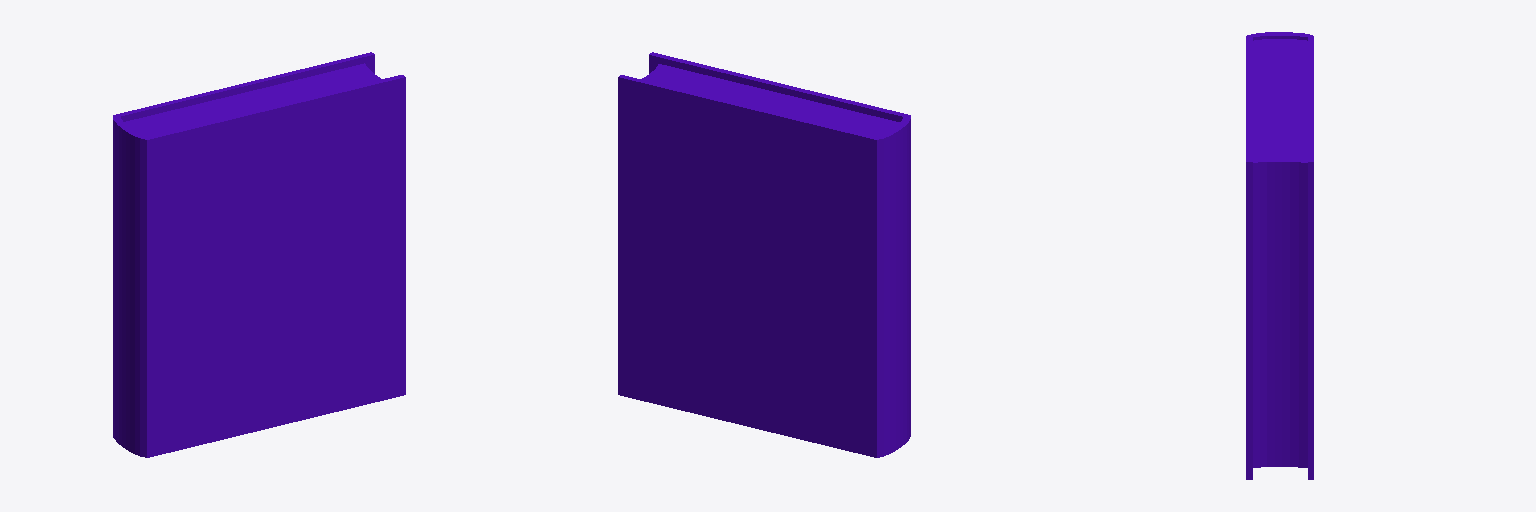
Rendered from book-purple.obj.
3 renders of one model, left to right at view 1: azimuth 30°, elevation 25°; view 2: azimuth 150°, elevation 25°; view 3: azimuth 270°, elevation 25°, orthographic.
Visible parts, largest first — view 1: Cube.001; view 2: Cube.001; view 3: Cube.001.
Boxes of the visible parts, x1=… form: Cube.001: x1=113, y1=52, x2=405, y2=457; Cube.001: x1=618, y1=52, x2=910, y2=457; Cube.001: x1=1246, y1=32, x2=1313, y2=479.
Size of the model in its own units: 0.4137 by 0.4733 by 0.0919.